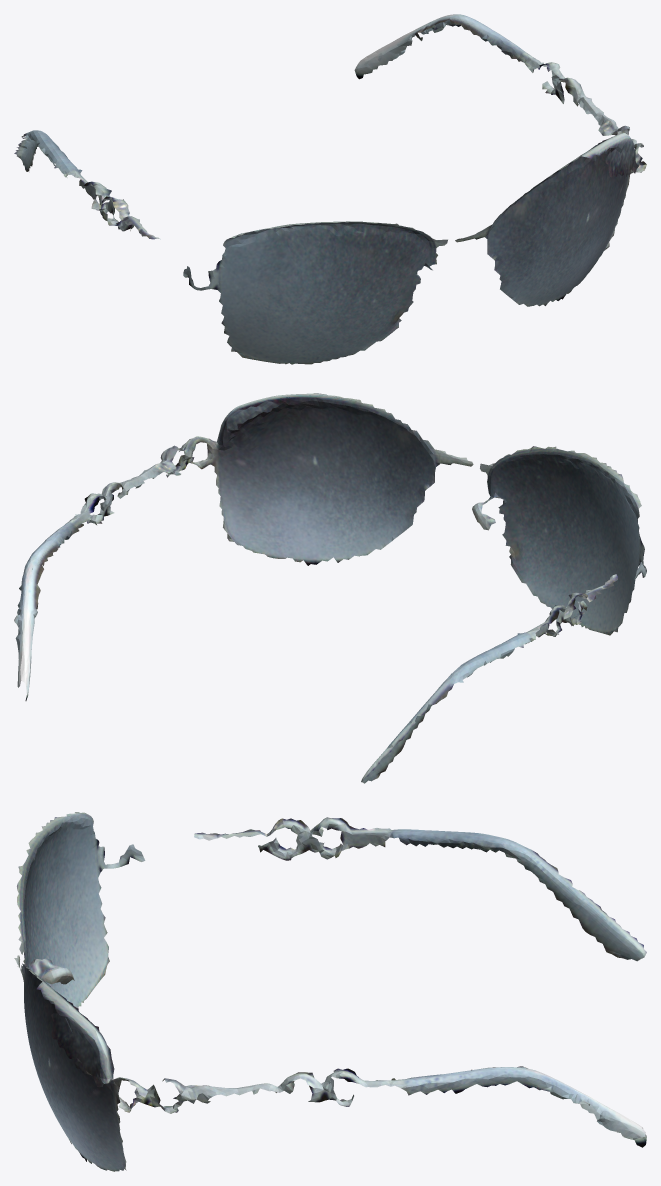
File: scan_align.obj
3 views of the same model, one above another, from view 1: azimuth 30°, elevation 25°; view 2: azimuth 150°, elevation 25°; view 3: azimuth 270°, elevation 25° (orthographic). The views are drawn at different scales.
Bounding box in the file's own units: 0.1499 × 0.0475 × 0.1512.
1 material, 1 textured.
